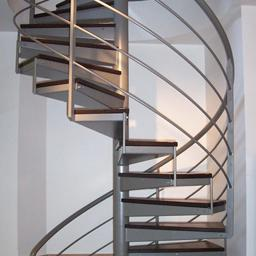Escaleras: (8, 6, 242, 251)
